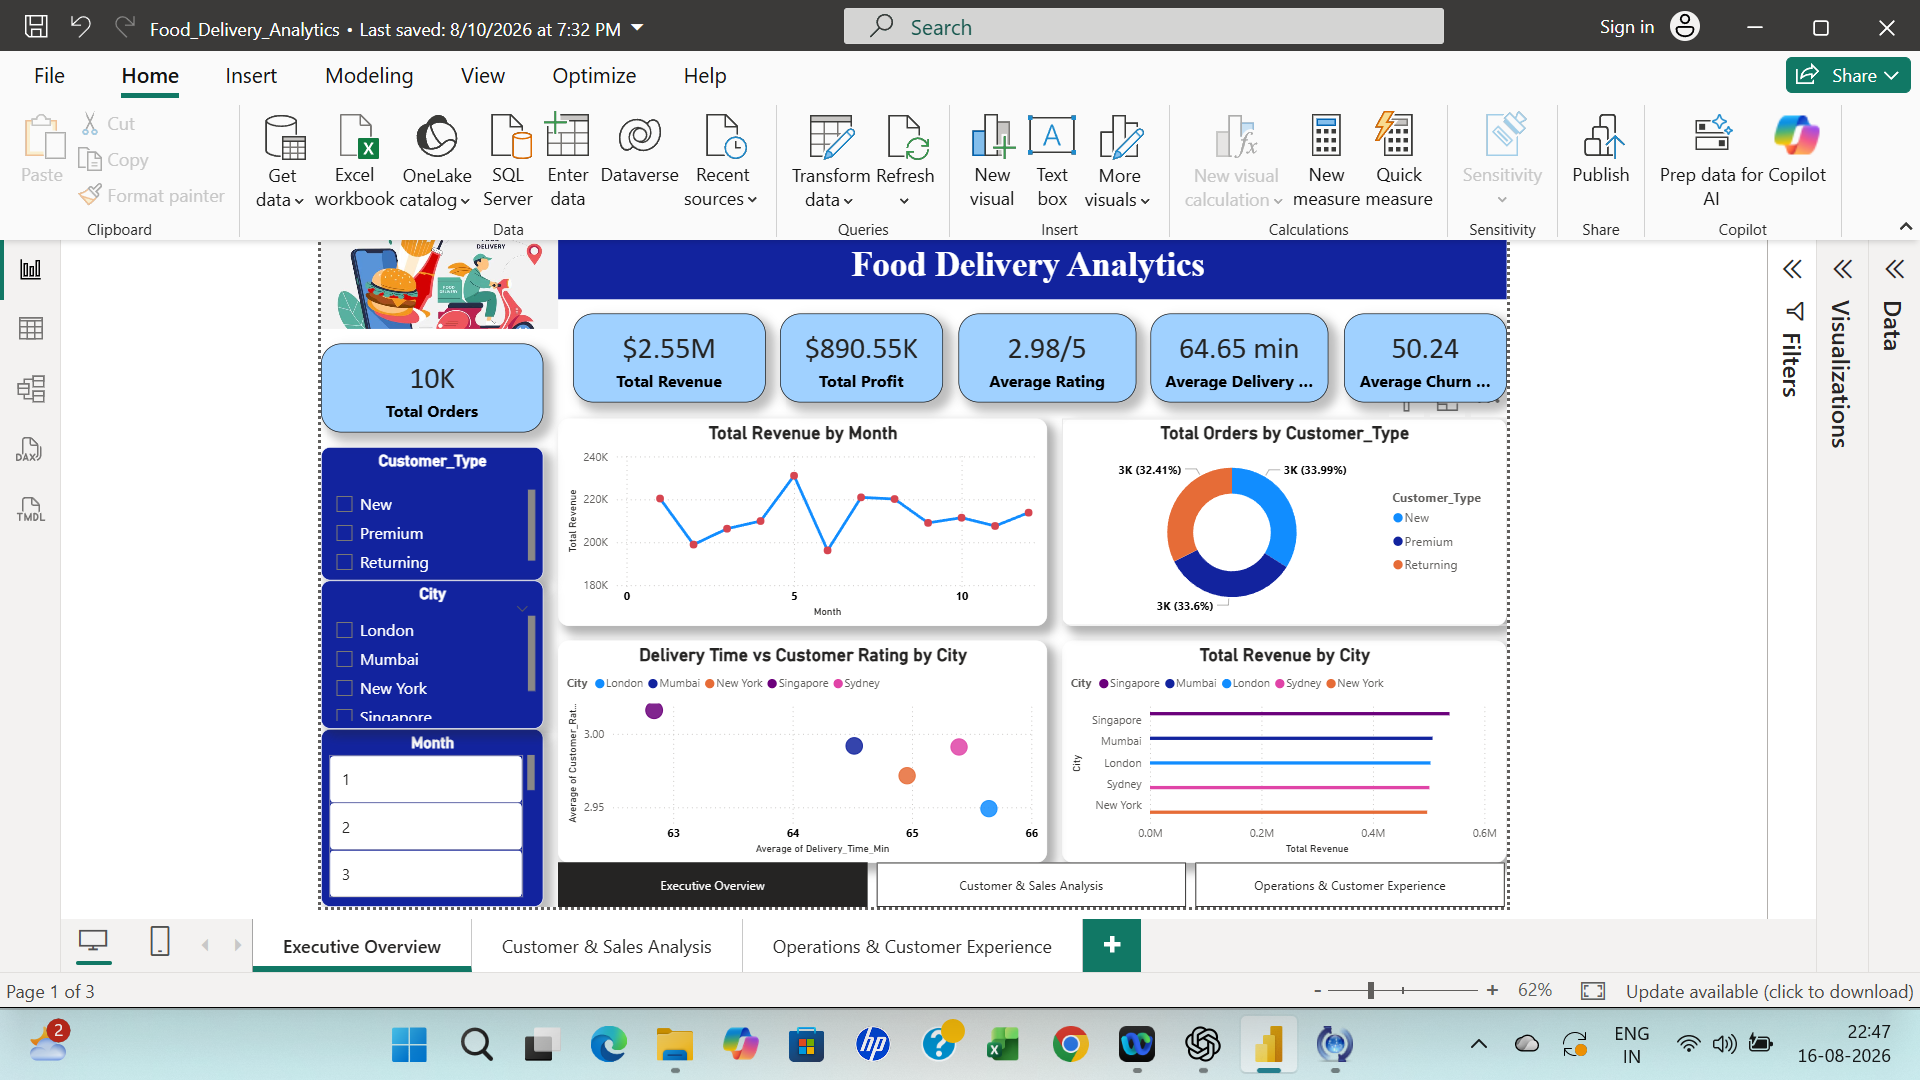

The page's visual inventory and layout, read from the dashboard file:
{"tool":"powerbi","page":{"name":"Executive Overview","canvas":[1280,720],"ordinal":0},"visuals":[{"type":"lineChart","fields":{"Category":["Dim_Date.Month"],"Y":["Food_Delivery_Analytics.Total Revenue"]},"box":[256,192,528,224],"z":0},{"type":"clusteredBarChart","title":"Total Revenue by City ","fields":{"Category":["Food_Delivery_Analytics.City"],"Y":["Food_Delivery_Analytics.Total Revenue"],"Series":["Food_Delivery_Analytics.City"]},"box":[800,432,480,240],"z":1000},{"type":"donutChart","fields":{"Category":["Dim_CustomerType.Customer_Type"],"Y":["Food_Delivery_Analytics.Total Orders"]},"box":[800,192,480,224],"z":2000},{"type":"advancedSlicerVisual","fields":{"Values":["Dim_Date.Month"]},"box":[0,528,240,192],"z":3000},{"type":"slicer","title":"Customer_Type","fields":{"Values":["Food_Delivery_Analytics.Customer_Type"]},"box":[0,224,240,144],"z":4000},{"type":"slicer","title":"City","fields":{"Values":["Food_Delivery_Analytics.City"]},"box":[0,368,240,160],"z":5000},{"type":"card","fields":{"Values":["Food_Delivery_Analytics.Total Revenue"]},"box":[272,80,208,96],"z":6000},{"type":"card","fields":{"Values":["Food_Delivery_Analytics.Total Profit"]},"box":[496,80,176,96],"z":7000},{"type":"card","fields":{"Values":["Food_Delivery_Analytics.Average Rating"]},"box":[688,80,192,96],"z":8000},{"type":"card","fields":{"Values":["Food_Delivery_Analytics.Average Delivery Time"]},"box":[896,80,192,96],"z":9000},{"type":"card","fields":{"Values":["Food_Delivery_Analytics.Average Churn Risk"]},"box":[1104,80,176,96],"z":10000},{"type":"scatterChart","title":"Delivery Time vs Customer Rating by City","fields":{"X":["Avg(Food_Delivery_Analytics.Delivery_Time_Min)"],"Y":["Avg(Food_Delivery_Analytics.Customer_Rating)"],"Series":["Food_Delivery_Analytics.City"],"Size":["Food_Delivery_Analytics.Total Orders"]},"box":[256,432,528,240],"z":11000},{"type":"textbox","box":[256,0,1024,64],"z":12000},{"type":"image","box":[0,0,256,96],"z":13000},{"type":"card","fields":{"Values":["Food_Delivery_Analytics.Total Orders"]},"box":[0,112,240,96],"z":14000},{"type":"pageNavigator","box":[256,672,1024,48],"z":15000}]}

Visuals, with their boxes on the page's 1280x720 design canvas (x1, y1, x2, y2). These are canvas units, not pixel positions in the 1920x1080 screenshot, which may show the page scaled, cropped or inside an application window:
lineChart - Dim_Date.Month x Food_Delivery_Analytics.Total Revenue: box=[256, 192, 784, 416]
"Total Revenue by City " clusteredBarChart: box=[800, 432, 1280, 672]
donutChart - Dim_CustomerType.Customer_Type x Food_Delivery_Analytics.Total Orders: box=[800, 192, 1280, 416]
advancedSlicerVisual - Dim_Date.Month: box=[0, 528, 240, 720]
"Customer_Type" slicer: box=[0, 224, 240, 368]
"City" slicer: box=[0, 368, 240, 528]
card - Food_Delivery_Analytics.Total Revenue: box=[272, 80, 480, 176]
card - Food_Delivery_Analytics.Total Profit: box=[496, 80, 672, 176]
card - Food_Delivery_Analytics.Average Rating: box=[688, 80, 880, 176]
card - Food_Delivery_Analytics.Average Delivery Time: box=[896, 80, 1088, 176]
card - Food_Delivery_Analytics.Average Churn Risk: box=[1104, 80, 1280, 176]
"Delivery Time vs Customer Rating by City" scatterChart: box=[256, 432, 784, 672]
textbox: box=[256, 0, 1280, 64]
image: box=[0, 0, 256, 96]
card - Food_Delivery_Analytics.Total Orders: box=[0, 112, 240, 208]
pageNavigator: box=[256, 672, 1280, 720]
